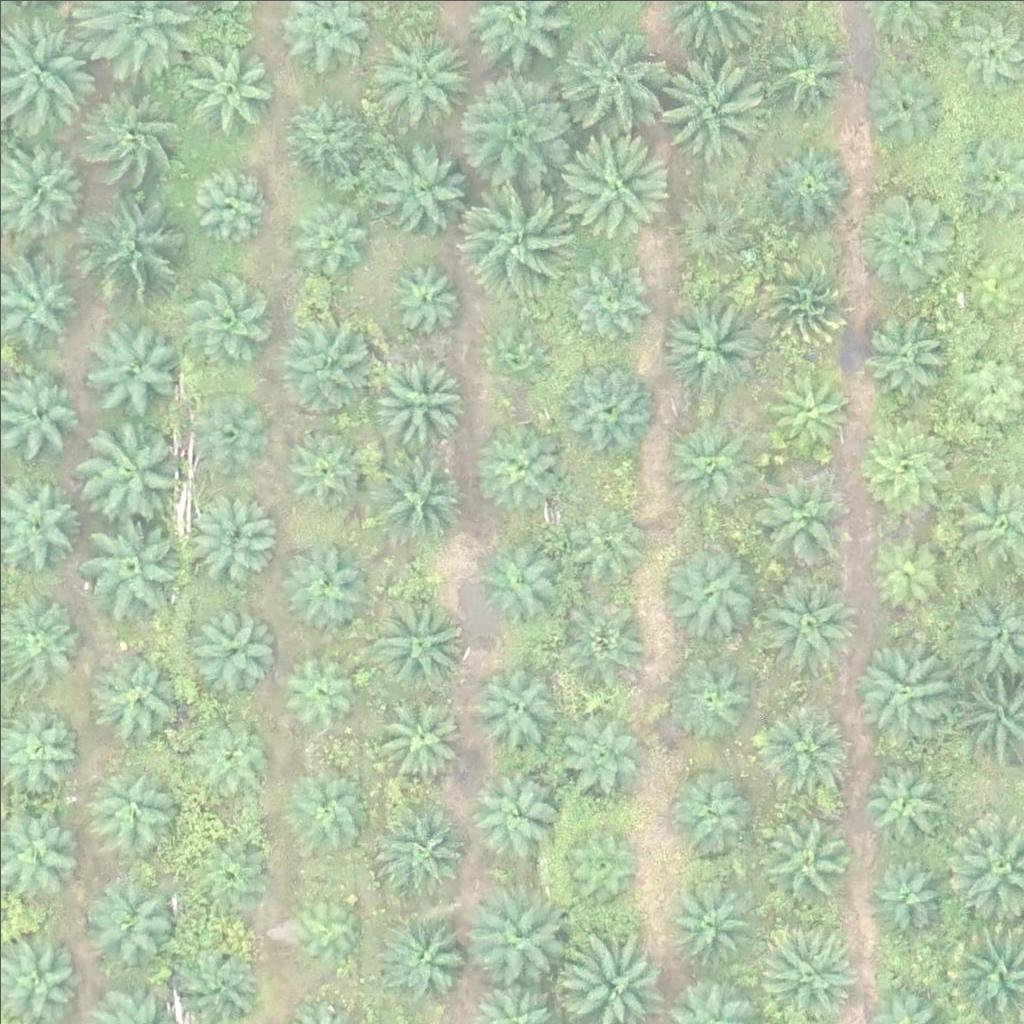Kelapa_Sawit: (657, 46, 770, 160), (74, 408, 187, 522), (462, 70, 575, 183), (551, 24, 664, 137), (555, 128, 668, 241), (75, 184, 187, 298), (456, 179, 568, 293), (79, 78, 191, 191), (75, 316, 175, 417), (176, 32, 276, 133), (281, 316, 381, 417), (372, 28, 472, 129), (554, 356, 654, 457), (662, 299, 762, 400), (852, 418, 952, 519), (849, 642, 949, 743), (753, 470, 853, 571), (750, 696, 850, 797), (660, 547, 760, 648), (662, 414, 762, 515), (463, 884, 563, 985), (368, 588, 468, 689), (365, 448, 465, 549), (90, 638, 190, 739), (75, 513, 175, 614), (367, 350, 467, 450), (373, 134, 473, 234), (858, 188, 958, 288), (749, 253, 849, 353), (758, 569, 858, 669), (186, 158, 274, 247), (376, 907, 464, 996), (178, 269, 266, 357), (284, 196, 372, 284), (672, 179, 760, 267), (860, 63, 948, 151), (767, 33, 855, 121), (563, 248, 651, 336), (767, 363, 855, 451), (762, 140, 850, 228), (667, 769, 755, 857), (666, 649, 754, 737), (552, 705, 640, 793), (559, 591, 647, 679), (474, 762, 562, 850), (470, 661, 558, 749), (478, 532, 566, 620), (376, 802, 464, 890), (180, 823, 268, 911), (89, 875, 177, 963), (93, 763, 181, 851), (861, 753, 948, 842), (665, 882, 752, 971), (282, 91, 369, 179), (868, 312, 955, 400), (860, 532, 947, 620), (857, 849, 944, 937), (763, 811, 850, 899), (562, 496, 649, 584), (559, 814, 646, 902), (472, 416, 559, 504), (374, 688, 461, 776), (279, 424, 366, 512), (279, 542, 366, 630), (272, 646, 359, 734), (284, 769, 371, 857), (185, 706, 272, 794), (186, 597, 273, 685), (189, 489, 276, 577), (286, 887, 361, 963), (387, 258, 462, 334), (187, 391, 262, 467), (489, 327, 551, 390)
